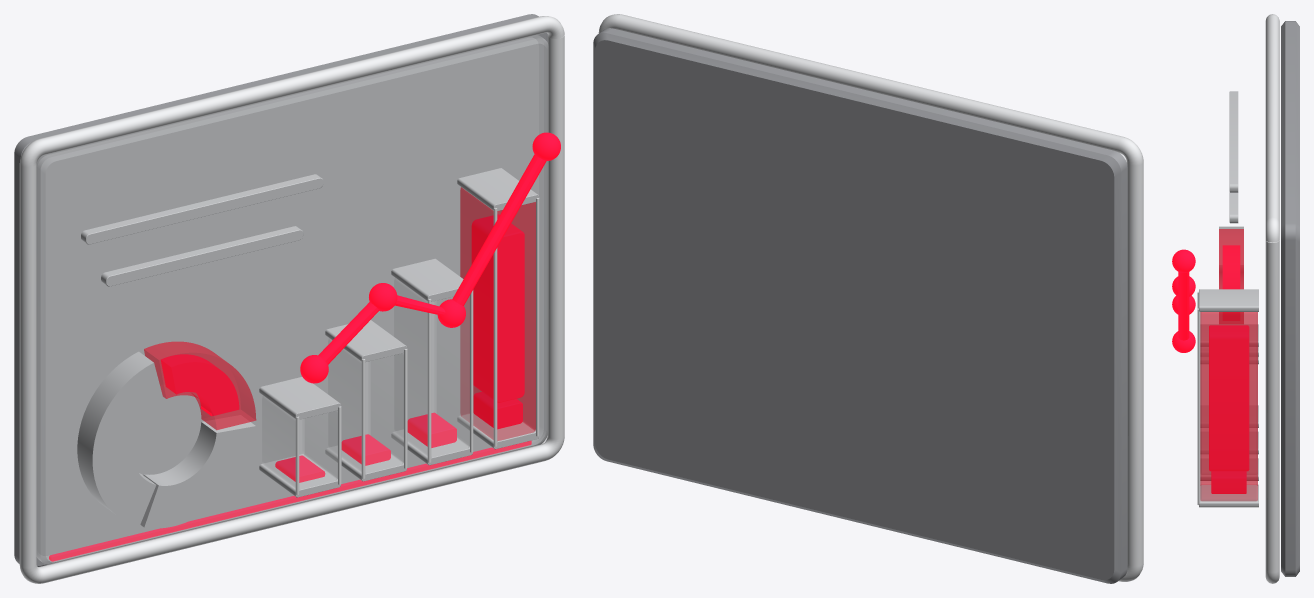
File: 06-management-analytics.glb
3 renders of one model, left to right at view 1: azimuth 30°, elevation 25°; view 2: azimuth 150°, elevation 25°; view 3: azimuth 270°, elevation 25°, orthographic. The views are drawn at different scales.
Visible parts, largest first — view 1: BC clear optical glass, BC brushed iron, BC polished iron bevel, BC satin iron, BC internal ruby light, BC ruby optical glass; view 2: BC brushed iron, BC polished iron bevel; view 3: BC ruby optical glass, BC brushed iron, BC internal ruby light, BC polished iron bevel, BC satin iron, BC clear optical glass.
Boxes of the visible parts, x1=… form: BC clear optical glass: x1=36, y1=35, x2=548, y2=564; BC brushed iron: x1=14, y1=14, x2=547, y2=566; BC polished iron bevel: x1=19, y1=16, x2=564, y2=583; BC satin iron: x1=77, y1=168, x2=538, y2=528; BC internal ruby light: x1=49, y1=132, x2=560, y2=561; BC ruby optical glass: x1=144, y1=187, x2=535, y2=440; BC brushed iron: x1=593, y1=28, x2=1127, y2=583; BC polished iron bevel: x1=598, y1=14, x2=1143, y2=581; BC ruby optical glass: x1=1200, y1=229, x2=1257, y2=500; BC brushed iron: x1=1281, y1=21, x2=1299, y2=576; BC internal ruby light: x1=1172, y1=245, x2=1249, y2=493; BC polished iron bevel: x1=1197, y1=14, x2=1279, y2=583; BC satin iron: x1=1199, y1=91, x2=1258, y2=507; BC clear optical glass: x1=1201, y1=347, x2=1257, y2=458.
Size of the model in its own units: 2.06 by 1.61 by 0.5095.
